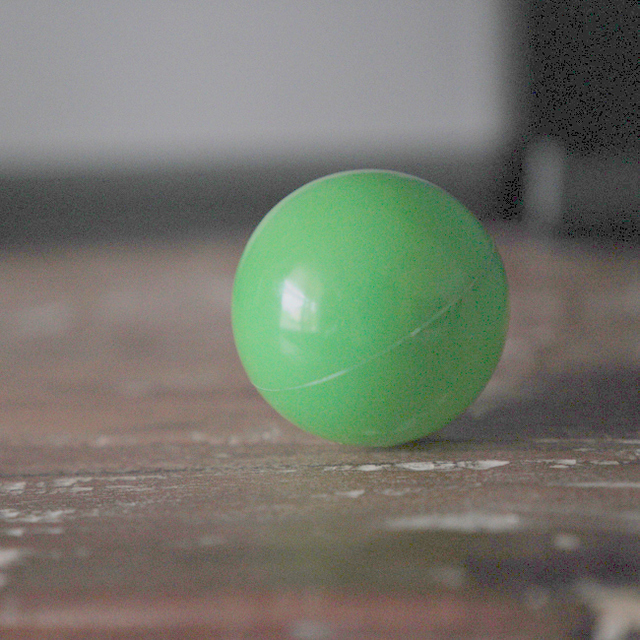Ball: (231, 167, 507, 444)
